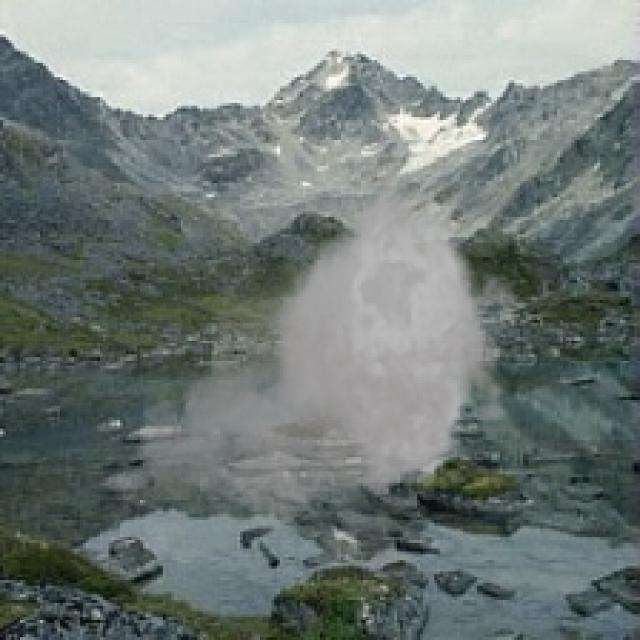Smoke: (132, 137, 534, 537)
